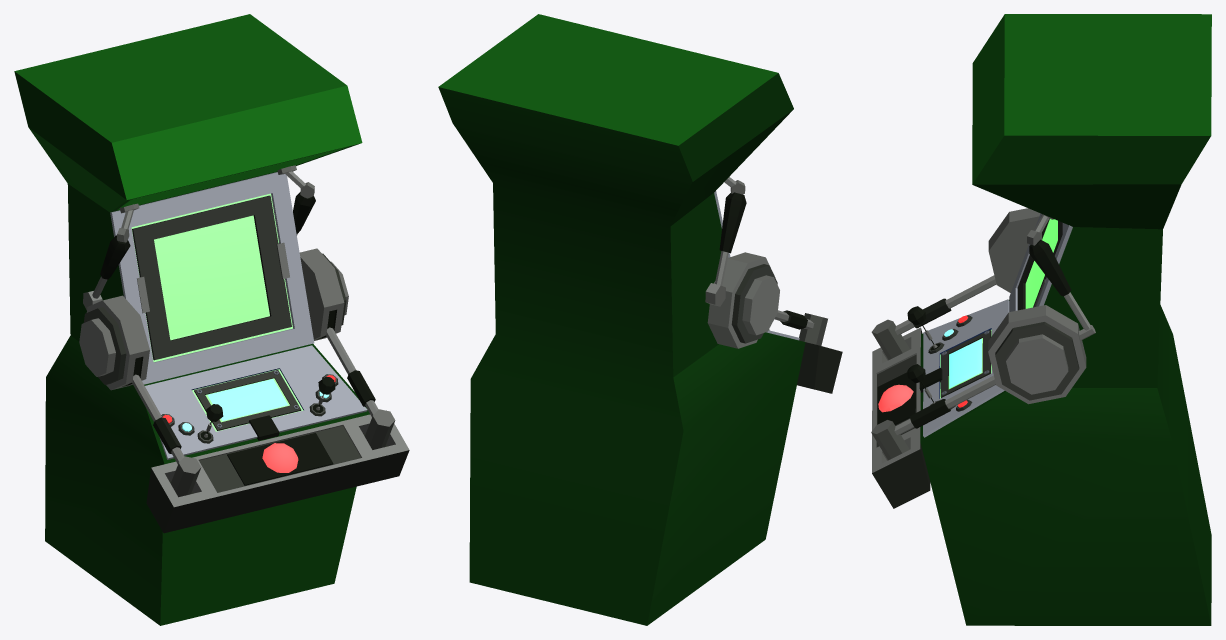
File: grid1-smallattraction3.glb
3 renders of one model, left to right at view 1: azimuth 30°, elevation 25°; view 2: azimuth 150°, elevation 25°; view 3: azimuth 270°, elevation 25°, orthographic. The views are drawn at different scales.
Visible parts, largest first — view 1: ArcadeMachine_Green; view 2: ArcadeMachine_Green; view 3: ArcadeMachine_Green.
Part boxes in pixels (<box>): ArcadeMachine_Green: <box>14,14,409,625</box>; ArcadeMachine_Green: <box>438,14,842,625</box>; ArcadeMachine_Green: <box>871,14,1211,625</box>.
Size of the model in its own units: 0.3313 by 0.6296 by 0.3843.
Materials: 1 (1 with a texture image).
